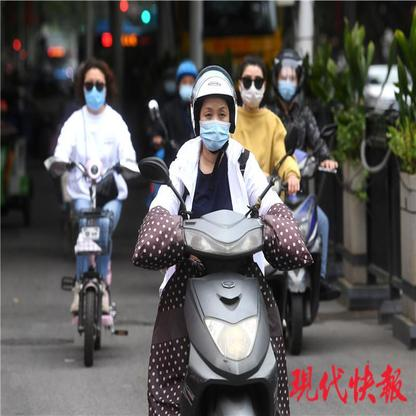target: (134, 63, 315, 414)
